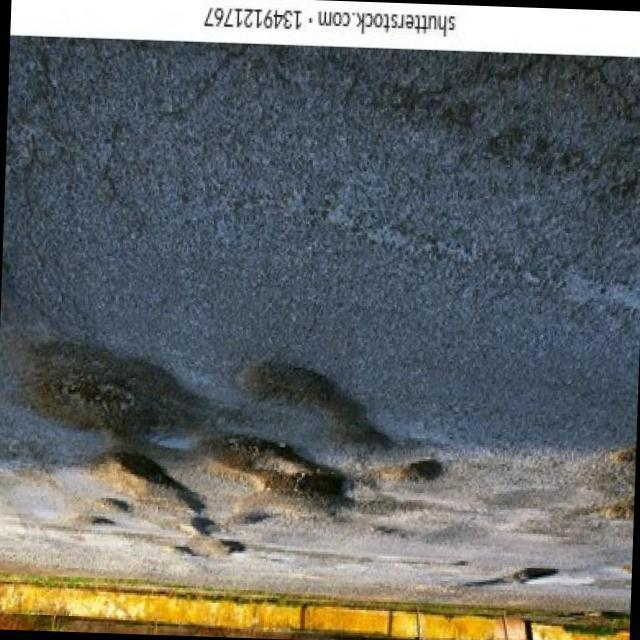Pothole: (28, 344, 209, 444), (233, 360, 402, 461), (90, 453, 245, 557), (200, 436, 354, 526)
